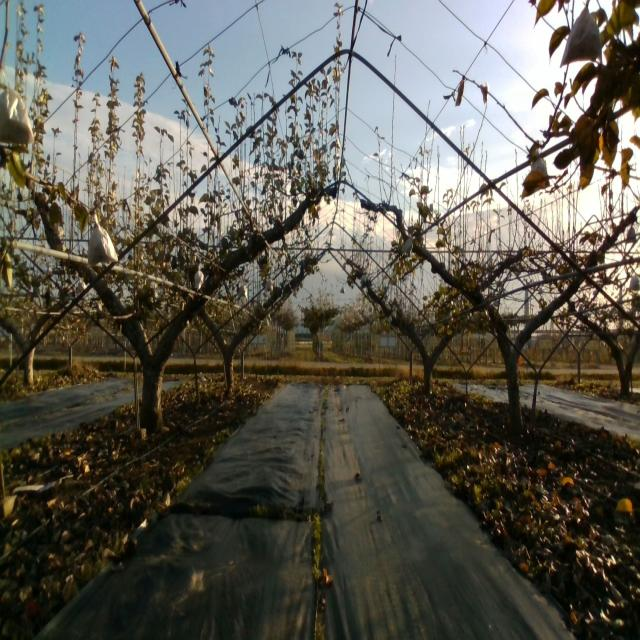pearbags: (560, 0, 604, 68), (0, 83, 35, 151), (87, 211, 119, 267), (531, 148, 549, 184), (401, 236, 414, 257), (194, 266, 204, 290)
